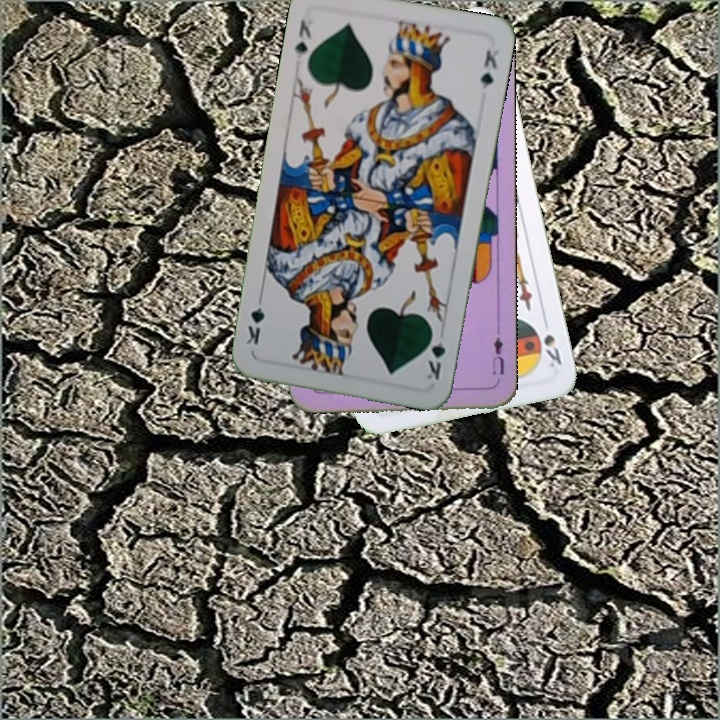EU: (488, 333, 506, 377)
GK: (420, 325, 448, 383), (290, 15, 314, 64)
SK: (539, 313, 564, 370)
